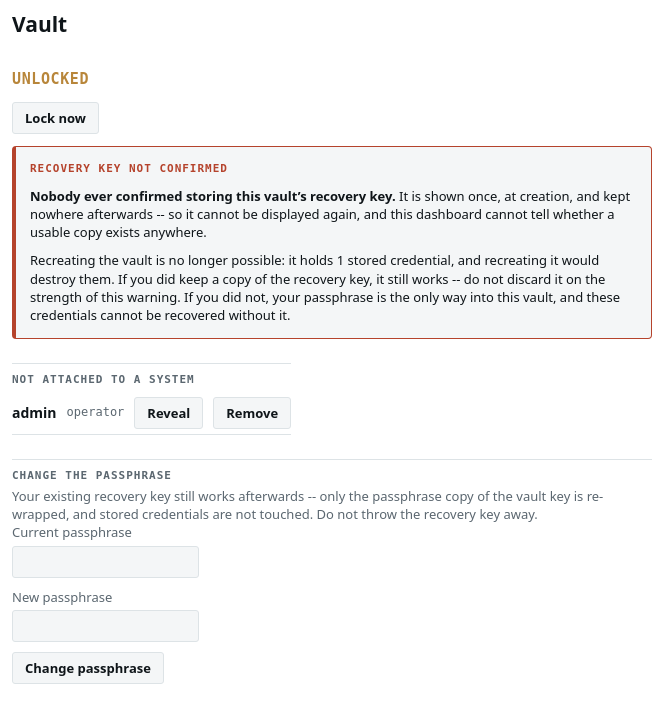
Test: VaultPanel › revealing a secret › shows the failure message and no secret when reveal fails
Click the button with test id "reveal-c1" at (169, 413), box [134, 396, 203, 429]
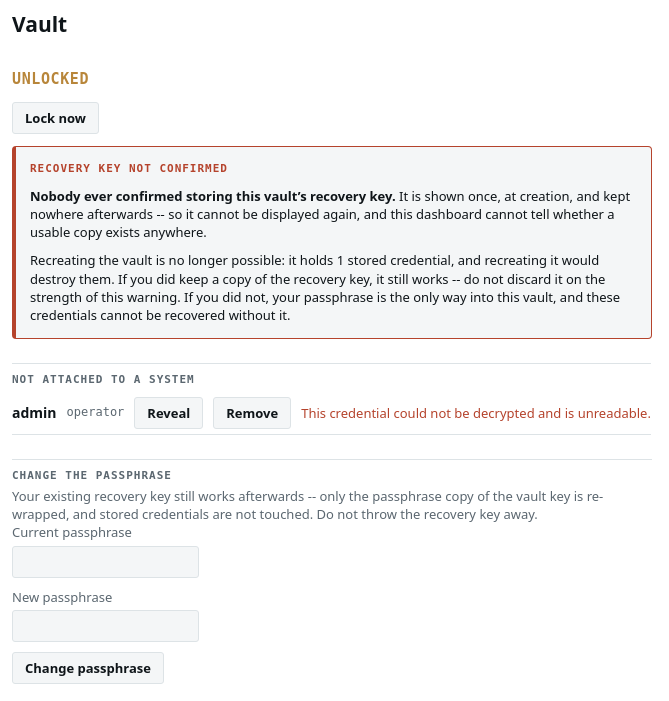
Result: the text "This credential could not be decrypted and is unreadable." is shown at [301, 404, 651, 422]
